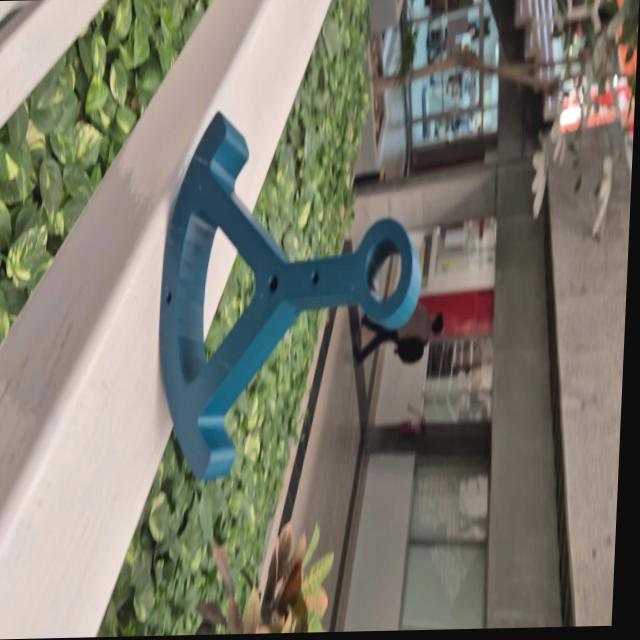haptic: (150, 104, 431, 482)
